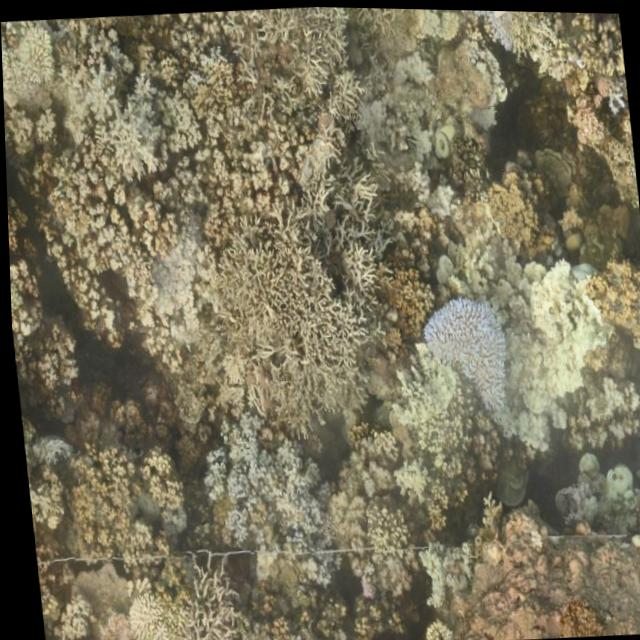Bleached Coral: (487, 242, 603, 424), (195, 434, 333, 556), (404, 276, 513, 420), (128, 207, 227, 354), (89, 77, 173, 186), (407, 524, 487, 610), (1, 23, 52, 104), (115, 572, 168, 640), (385, 444, 435, 503), (458, 8, 515, 50)
